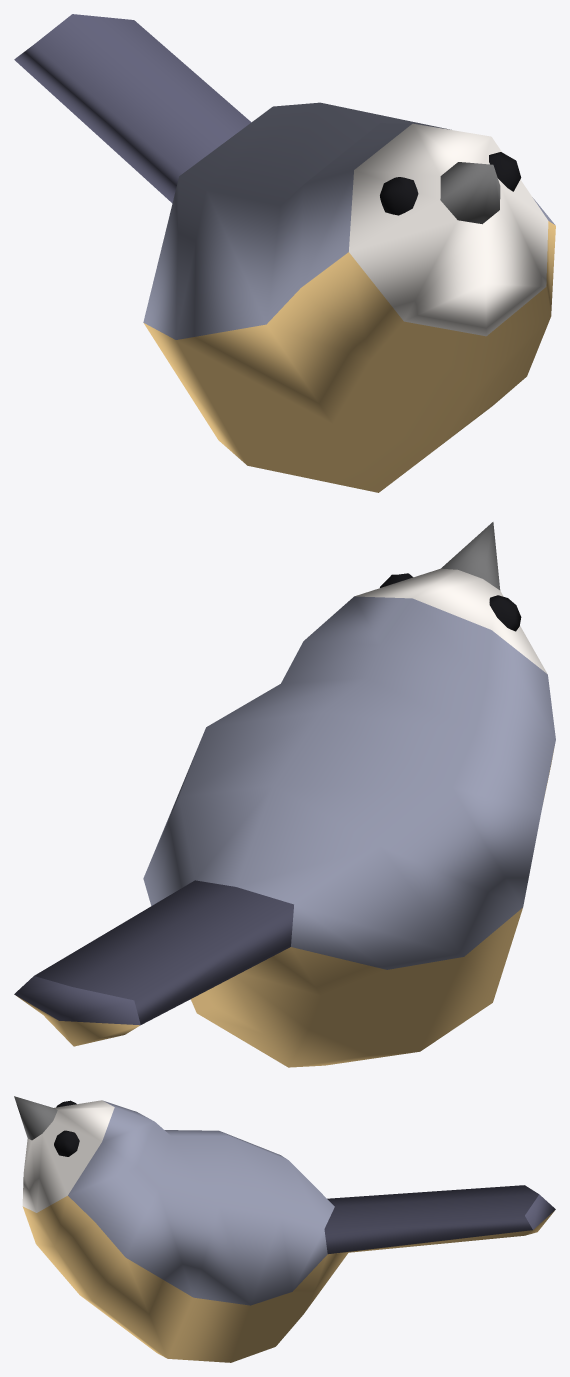
Rendered from Bird_1.glb.
3 renders of one model, top to bottom at view 1: azimuth 30°, elevation 25°; view 2: azimuth 150°, elevation 25°; view 3: azimuth 270°, elevation 25°, orthographic. The views are drawn at different scales.
Parts seen in each view (by area): view 1: Bird_1; view 2: Bird_1; view 3: Bird_1.
Part boxes in pixels (<box>): Bird_1: <box>14,14,555,492</box>; Bird_1: <box>14,522,555,1067</box>; Bird_1: <box>14,1096,555,1362</box>.
Bounding box in the file's own units: 0.1613 × 0.1868 × 0.3494.
Materials: 1 (1 with a texture image).
